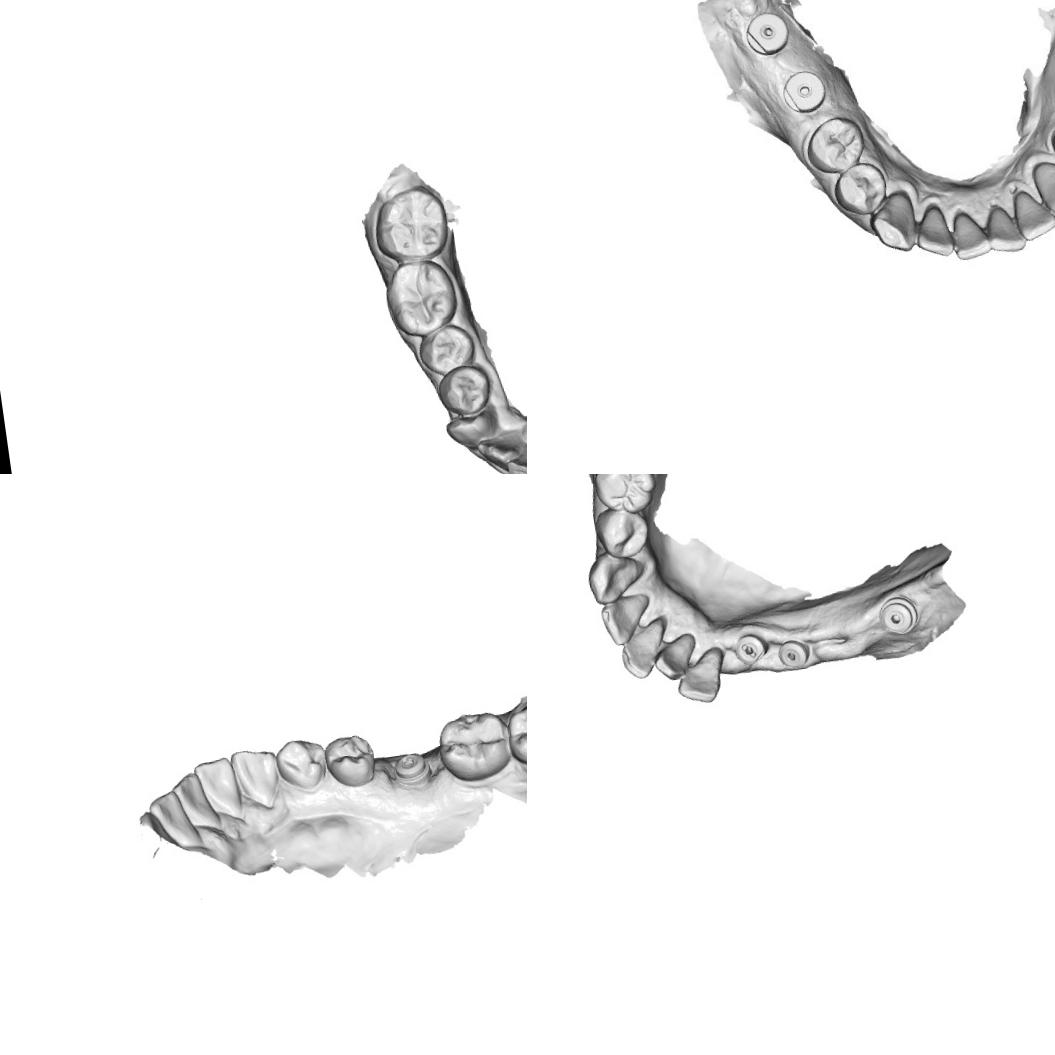canine: (584, 546, 651, 606), (228, 744, 285, 813), (869, 195, 920, 257), (443, 408, 501, 452), (1030, 154, 1055, 220)
implant: (777, 65, 833, 120), (740, 7, 793, 59), (873, 592, 924, 639), (774, 634, 816, 674)
implant_minus: (390, 750, 435, 792), (732, 631, 770, 669)
incisor: (672, 644, 732, 708), (615, 616, 673, 681), (192, 754, 244, 825), (597, 590, 657, 649), (650, 630, 701, 683), (981, 198, 1025, 258), (912, 199, 955, 256), (474, 426, 527, 471), (1012, 185, 1055, 238), (950, 208, 988, 260), (168, 768, 208, 815), (146, 786, 185, 831), (501, 435, 527, 474)
molar: (367, 180, 454, 268), (379, 255, 463, 341), (431, 705, 516, 787), (502, 693, 527, 769)
premolar: (802, 110, 866, 177), (591, 501, 654, 562), (413, 321, 479, 378), (434, 361, 496, 421), (320, 731, 380, 792), (273, 735, 331, 795), (831, 162, 892, 216), (590, 474, 661, 518)
